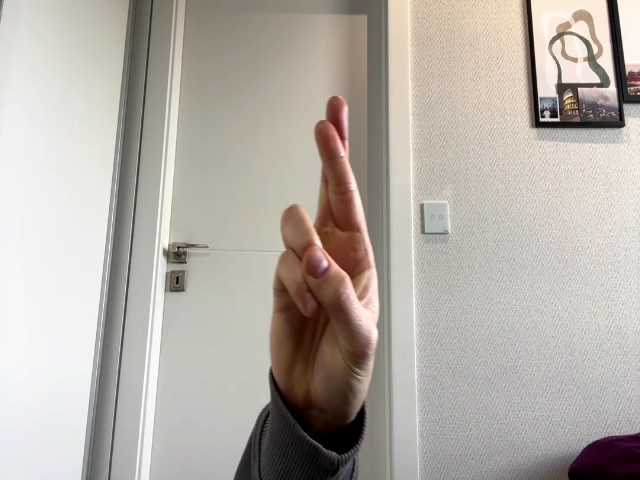R: (270, 96, 379, 408)
